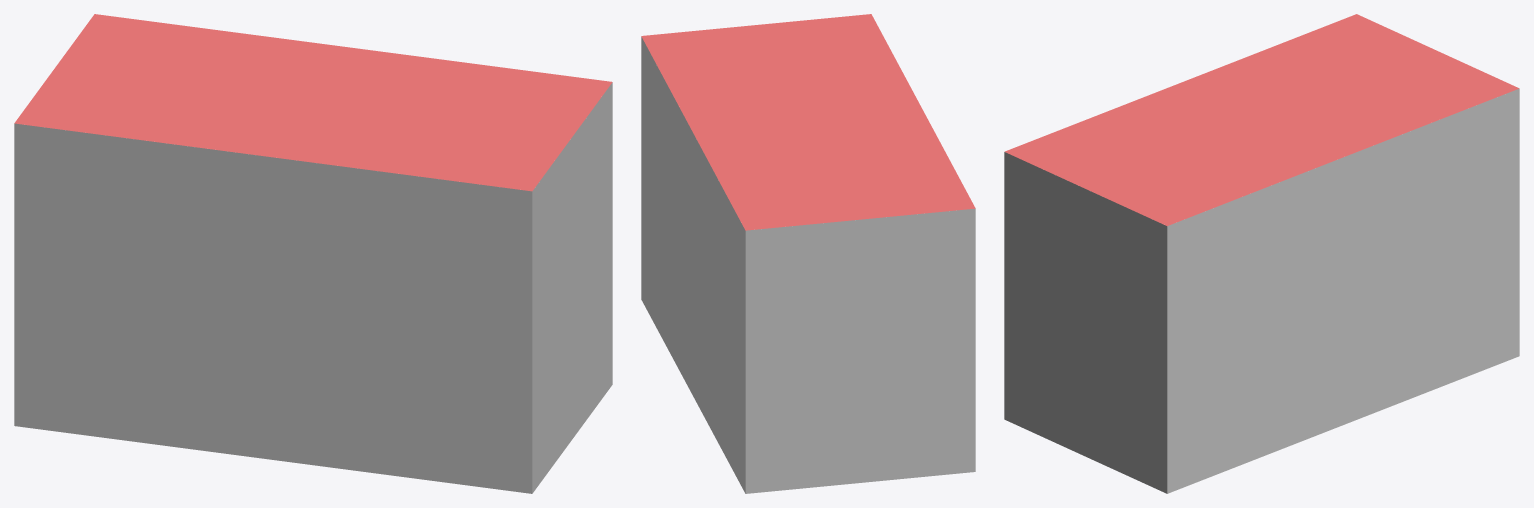
File: ID_0cee20c7-b0d4-4ab0-8c7f-949d7963af5c.gltf
3 renders of one model, left to right at view 1: azimuth 30°, elevation 25°; view 2: azimuth 150°, elevation 25°; view 3: azimuth 270°, elevation 25°, orthographic. The views are drawn at different scales.
Parts seen in each view (by area): view 1: Z_UP; view 2: Z_UP; view 3: Z_UP.
Boxes of the visible parts, left/top/right/bottom form: Z_UP: left=14, top=14, right=612, bottom=493; Z_UP: left=641, top=14, right=975, bottom=493; Z_UP: left=1004, top=14, right=1519, bottom=493.
Size of the model in its own units: 27.2 by 16 by 27.92.
